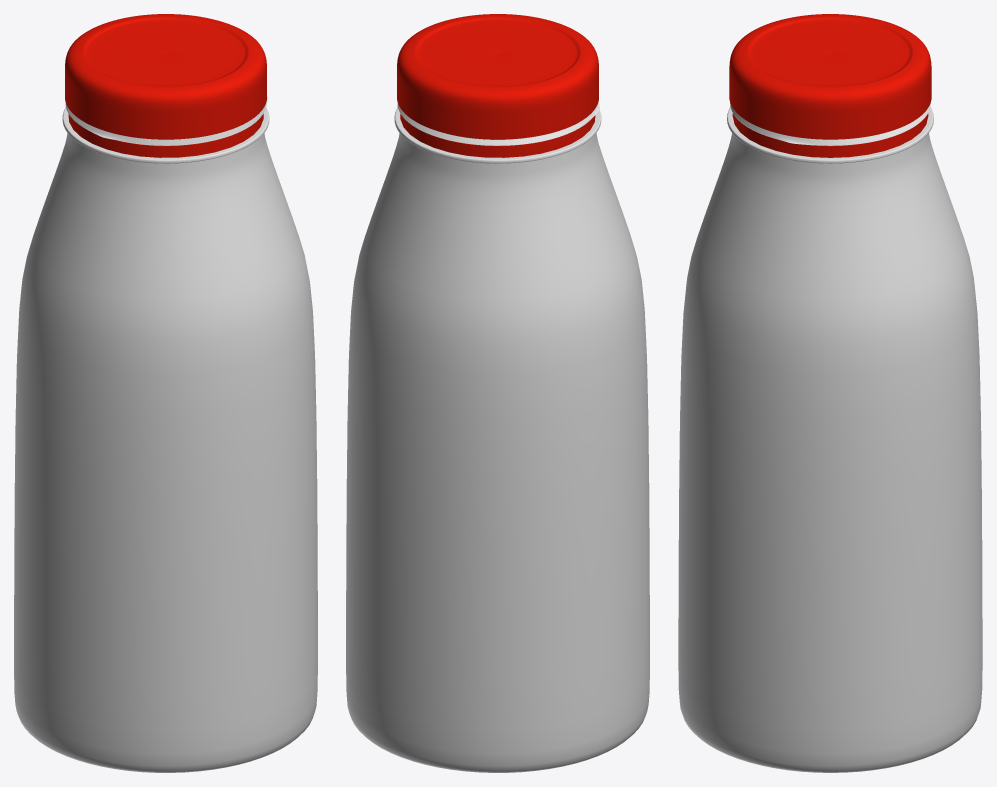
The model's file is plastic_bottle_with_droplets_and_haze.glb.
3 views of the same model, side by side, from view 1: azimuth 30°, elevation 25°; view 2: azimuth 150°, elevation 25°; view 3: azimuth 270°, elevation 25° (orthographic).
Visible parts, largest first — view 1: Cylinder_1, Cylinder.003_4, Cylinder.004_5, Cylinder.002_3, Cylinder.001_2; view 2: Cylinder_1, Cylinder.003_4, Cylinder.004_5, Cylinder.002_3, Cylinder.001_2; view 3: Cylinder_1, Cylinder.003_4, Cylinder.004_5, Cylinder.002_3, Cylinder.001_2.
Part boxes in pixels (box(x1,y1,x2,y2)): Cylinder_1: box(14, 133, 317, 772); Cylinder.003_4: box(65, 14, 266, 139); Cylinder.004_5: box(68, 113, 263, 157); Cylinder.002_3: box(62, 107, 269, 163); Cylinder.001_2: box(65, 96, 267, 145); Cylinder_1: box(346, 133, 649, 772); Cylinder.003_4: box(397, 14, 598, 139); Cylinder.004_5: box(400, 114, 595, 157); Cylinder.002_3: box(394, 107, 601, 163); Cylinder.001_2: box(397, 101, 599, 145); Cylinder_1: box(678, 133, 982, 772); Cylinder.003_4: box(729, 14, 931, 139); Cylinder.004_5: box(732, 113, 928, 157); Cylinder.002_3: box(727, 107, 933, 163); Cylinder.001_2: box(730, 102, 930, 145).
Bounding box in the file's own units: 0.4228 × 1.01 × 0.4228.
2 materials, 1 textured.
